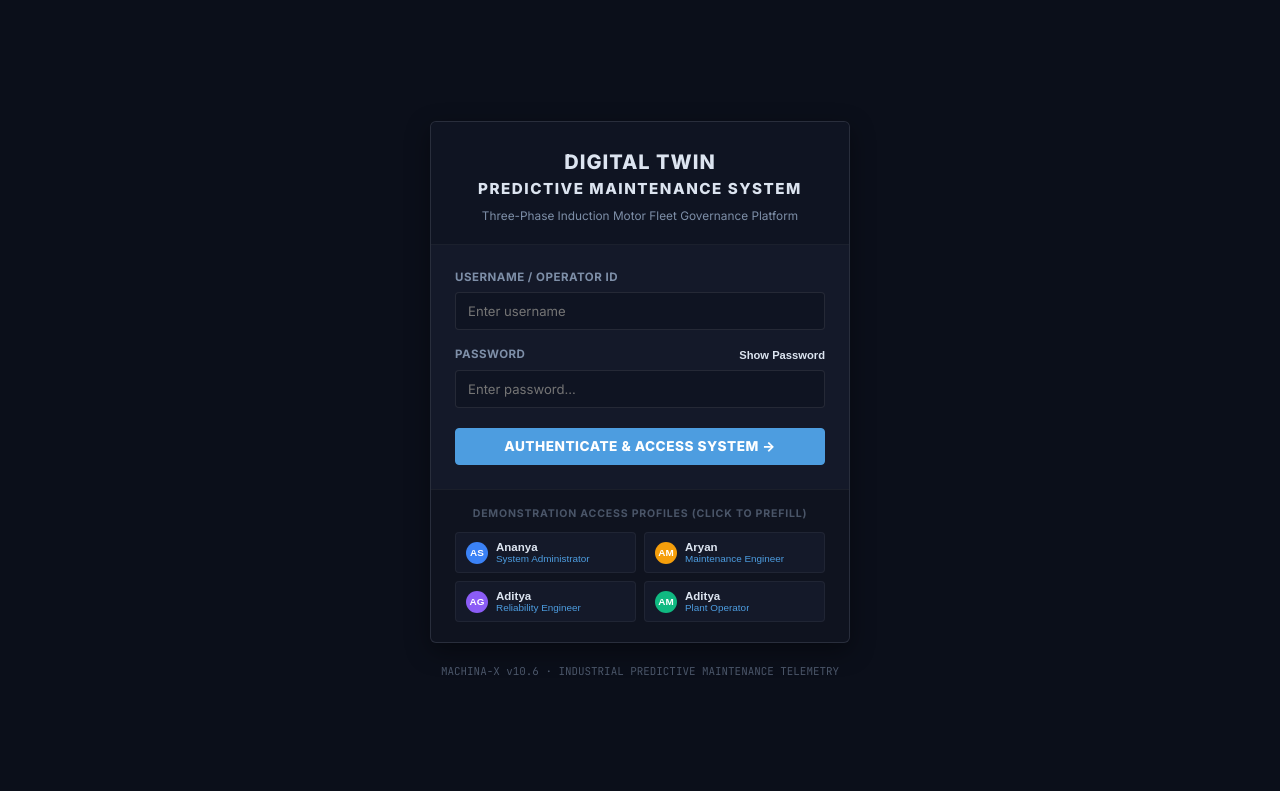
Test: Phase 10.6 — Login Authentication & Role-Based Access Control › 2. Authentication for All Four Demo Users › authenticates Aditya Gupta (Reliability Engineer) and displays Reliability & Predictive Analytics
# Click quickfill for Aditya Gupta
Click the button "AG Aditya Reliability Engineer" at point(546, 602), box [455,581,636,622]
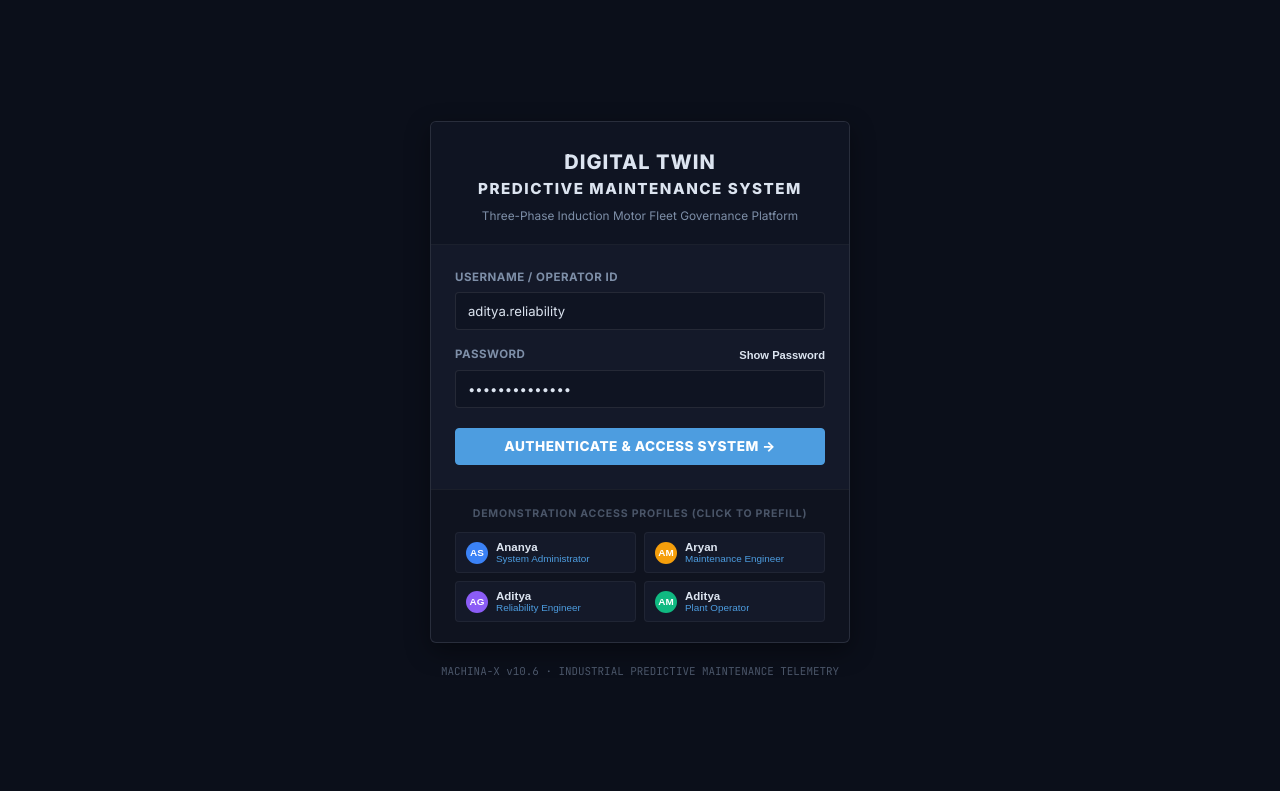
Click the button "AUTHENTICATE & ACCESS SYSTEM →" at point(640, 446), box [455,428,825,465]
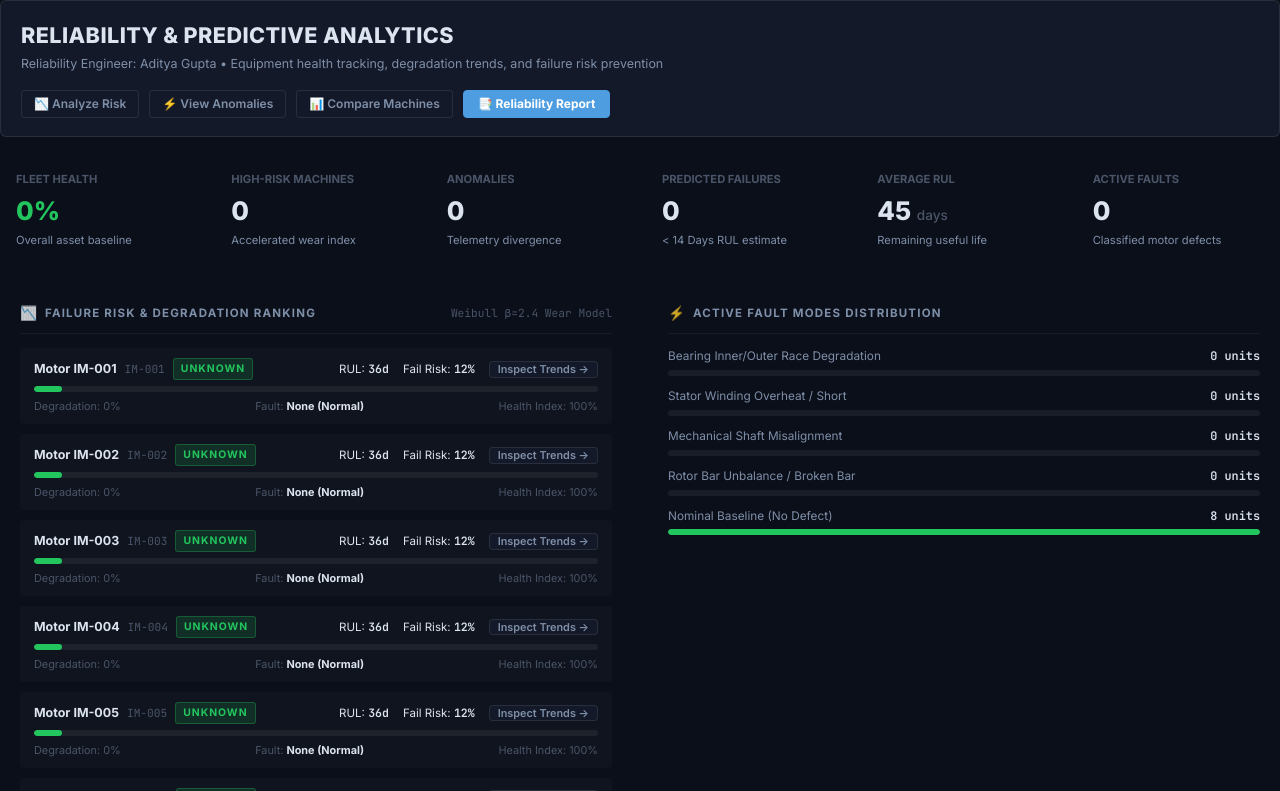
Expected: the heading "RELIABILITY & PREDICTIVE ANALYTICS" is shown, [21,22,454,48]
Expected: the text "Failure Risk & Degradation Ranking" is shown, [45,305,316,322]
